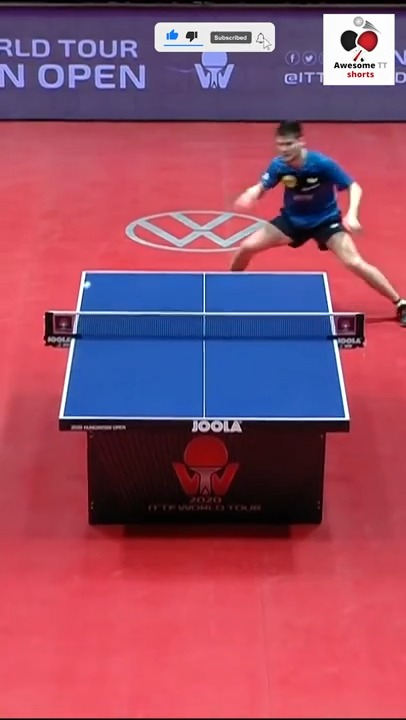Ball: (80, 280, 93, 289)
